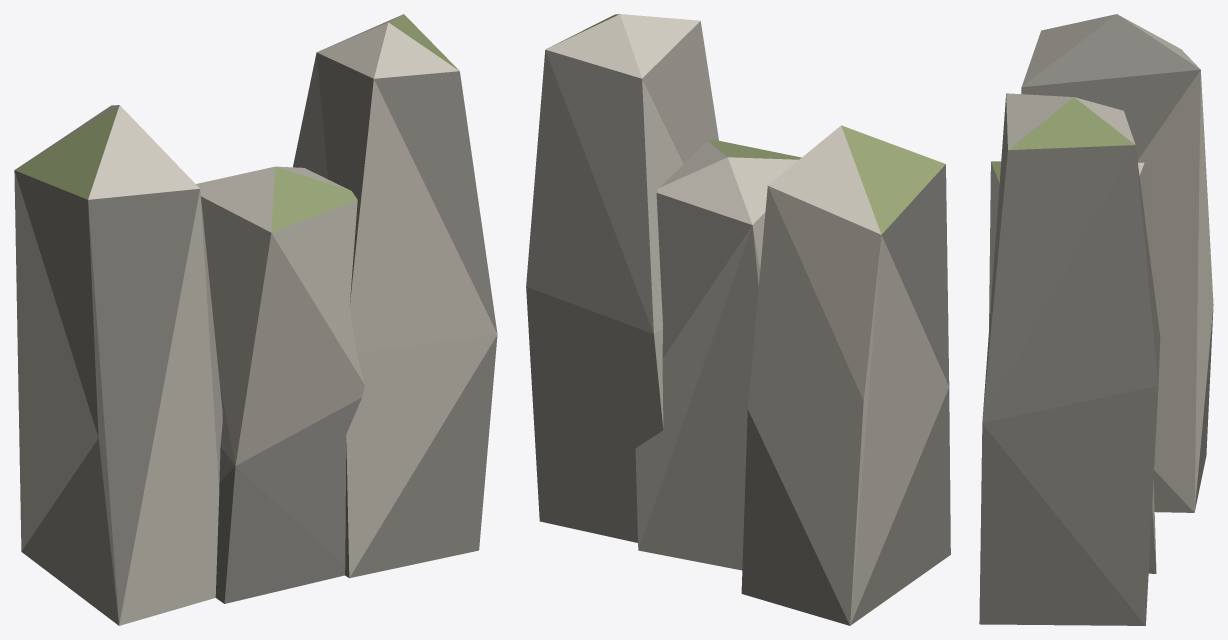
The model's file is Cliff_Rock_0.glb.
3 views of the same model, side by side, from view 1: azimuth 30°, elevation 25°; view 2: azimuth 150°, elevation 25°; view 3: azimuth 270°, elevation 25° (orthographic). The views are drawn at different scales.
Visible parts, largest first — view 1: Cliff_Rock_0; view 2: Cliff_Rock_0; view 3: Cliff_Rock_0.
Boxes of the visible parts, <box> form: Cliff_Rock_0: <box>14,14,497,625</box>; Cliff_Rock_0: <box>526,14,950,625</box>; Cliff_Rock_0: <box>979,14,1213,625</box>.
Size of the model in its own units: 1.93 by 2.42 by 1.02.
